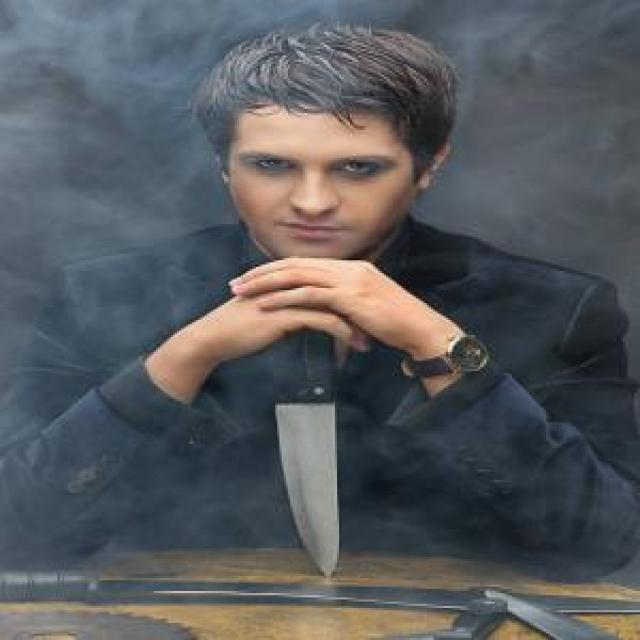knife: (271, 303, 353, 580)
